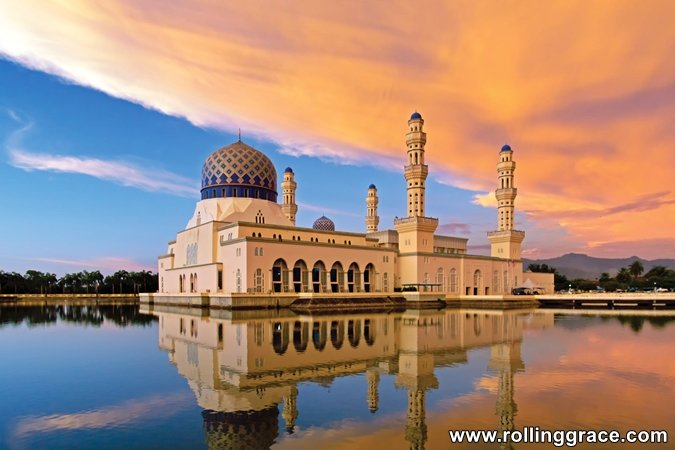Mosque: (151, 84, 520, 310)
